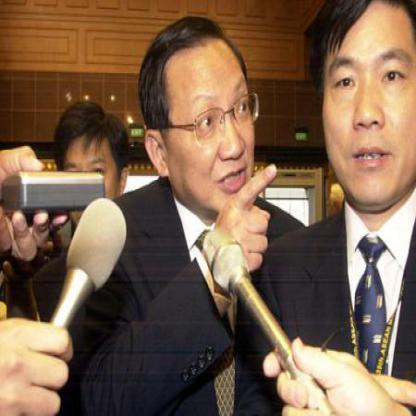face: (164, 21, 259, 227)
